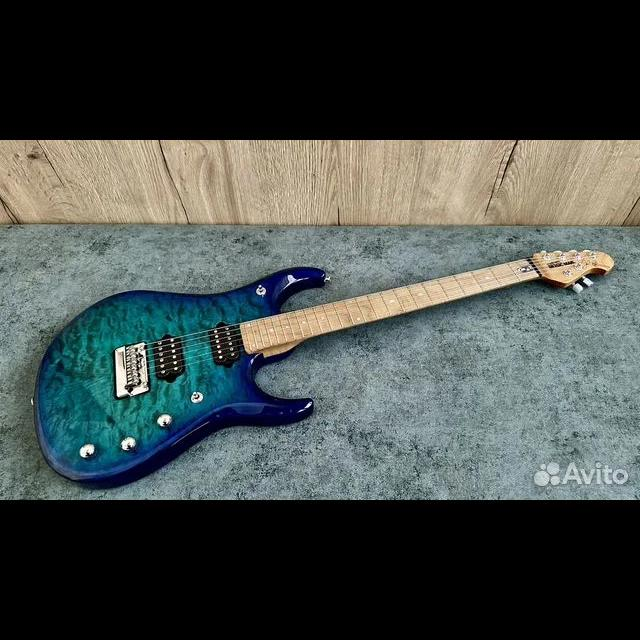Electric-Guitar: (30, 249, 614, 486)
